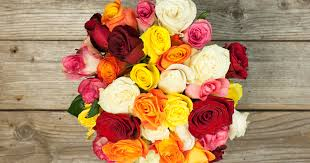lale: (144, 0, 203, 37), (128, 88, 170, 135), (188, 47, 237, 86), (190, 100, 235, 140), (94, 109, 142, 144), (155, 38, 201, 71), (226, 39, 256, 88), (104, 25, 143, 59), (127, 55, 163, 89), (144, 26, 173, 61), (188, 19, 214, 48)
